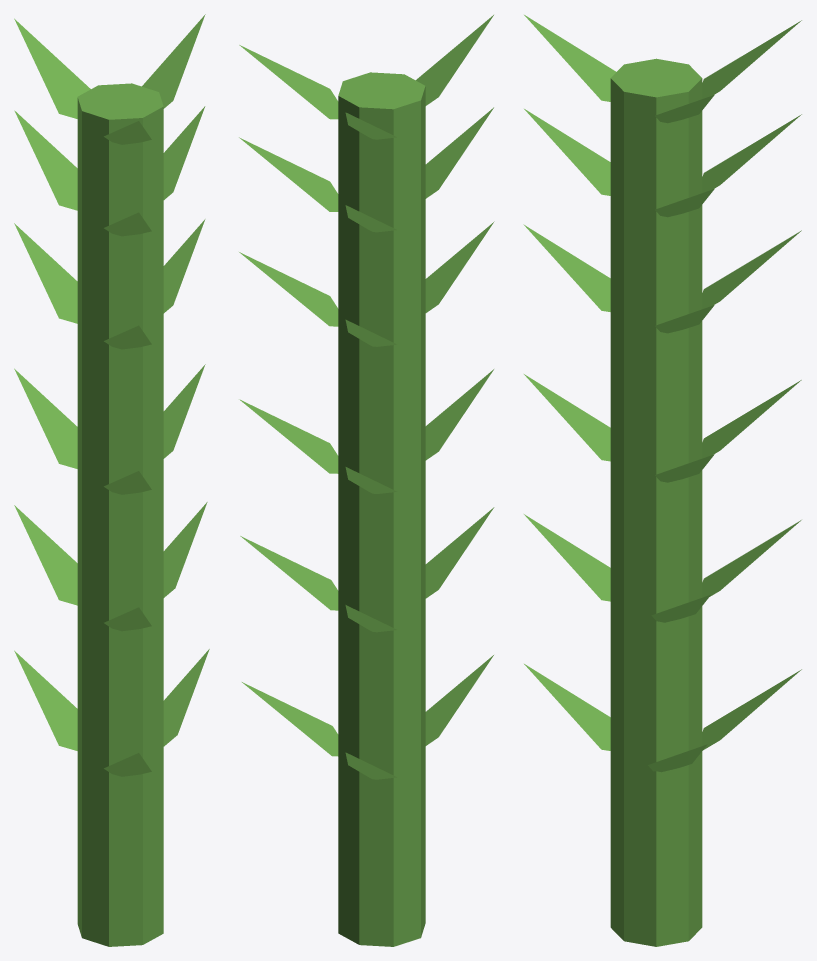
Rendered from Corn_statge_2.glb.
3 views of the same model, side by side, from view 1: azimuth 30°, elevation 25°; view 2: azimuth 150°, elevation 25°; view 3: azimuth 270°, elevation 25° (orthographic). The views are drawn at different scales.
Parts seen in each view (by area): view 1: Cylinder.003, Plane.025, Plane.019, Plane.022, Plane.013, Plane.014, Plane.012, Plane.026, Plane.011, Plane.010, Plane.009, Plane.020 (+7 smaller); view 2: Cylinder.003, Plane.026, Plane.009, Plane.020, Plane.023, Plane.010, Plane.011, Plane.024, Plane.015, Plane.018, Plane.016, Plane.021 (+7 smaller); view 3: Cylinder.003, Plane.024, Plane.016, Plane.015, Plane.017, Plane.018, Plane.021, Plane.019, Plane.013, Plane.012, Plane.022, Plane.025 (+7 smaller).
Part boxes in pixels (x1,y1,x2,y2): Cylinder.003: (77,83,163,946); Plane.025: (14,18,90,118); Plane.019: (14,223,77,323); Plane.022: (14,110,77,210); Plane.013: (14,505,77,605); Plane.014: (14,368,77,468); Plane.012: (14,650,77,750); Plane.026: (142,14,205,108); Plane.011: (163,649,209,746); Plane.010: (163,502,207,597); Plane.009: (163,364,205,458); Plane.020: (163,219,205,313); Cylinder.003: (338,72,425,946); Plane.026: (239,45,338,119); Plane.009: (239,399,338,473); Plane.020: (239,252,338,326); Plane.023: (239,137,338,211); Plane.010: (240,536,338,610); Plane.011: (242,682,338,756); Plane.024: (415,15,493,105); Plane.015: (425,369,493,460); Plane.018: (425,221,494,312); Plane.016: (425,507,494,598); Plane.021: (425,107,493,198); Cylinder.003: (610,58,702,946); Plane.024: (524,15,615,101); Plane.016: (524,514,610,601); Plane.015: (524,374,610,461); Plane.017: (524,664,610,750); Plane.018: (523,224,610,311); Plane.021: (524,109,610,195); Plane.019: (702,230,801,308); Plane.013: (702,520,801,597); Plane.012: (702,669,801,750); Plane.022: (702,114,801,192); Plane.025: (702,20,801,98).
Bounding box in the file's own units: 0.2501 × 1.29 × 0.3667.
